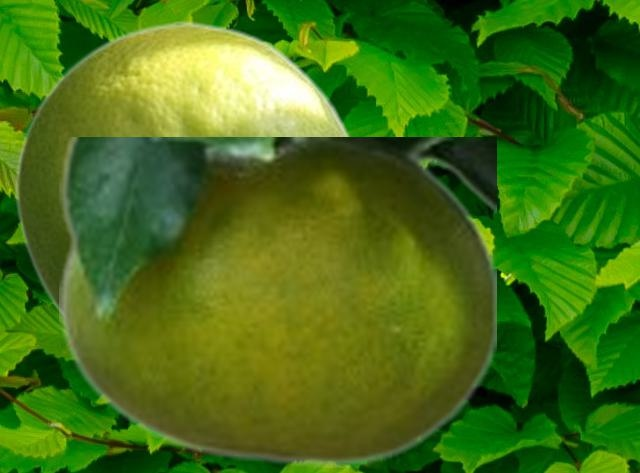dalandan: (59, 137, 495, 466), (14, 20, 354, 314)
